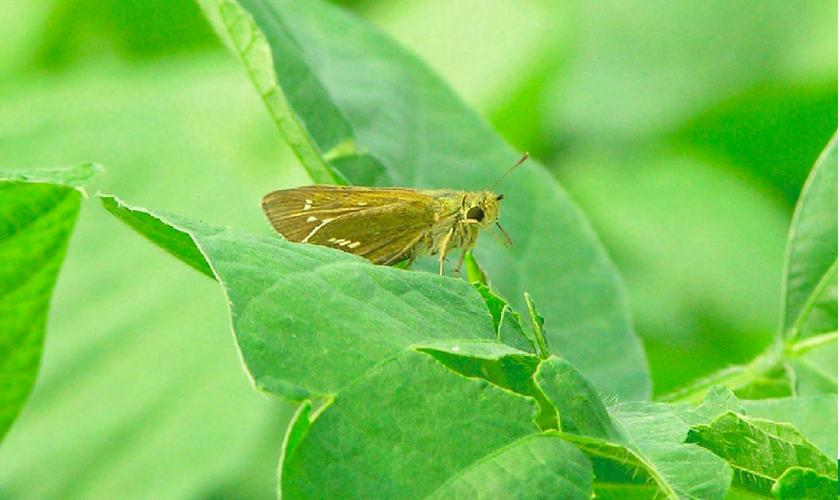Hesperiidae: (260, 149, 534, 272)
